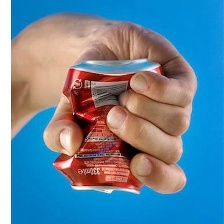can: (48, 52, 167, 201)
